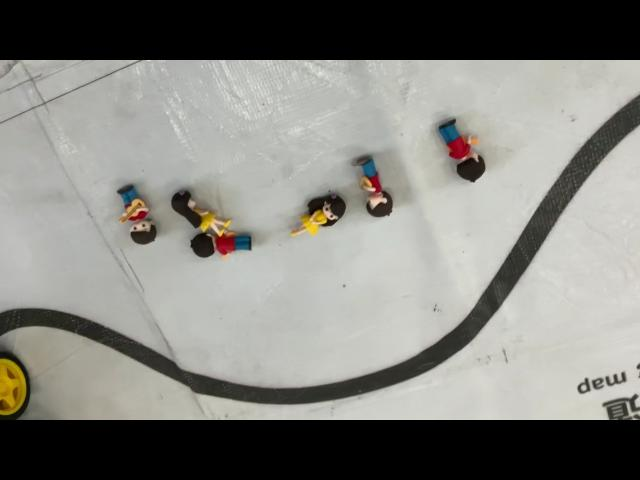man: (438, 116, 488, 186), (112, 180, 160, 248), (350, 151, 396, 219), (188, 230, 254, 260)
woman: (169, 187, 235, 237), (288, 192, 348, 246)
